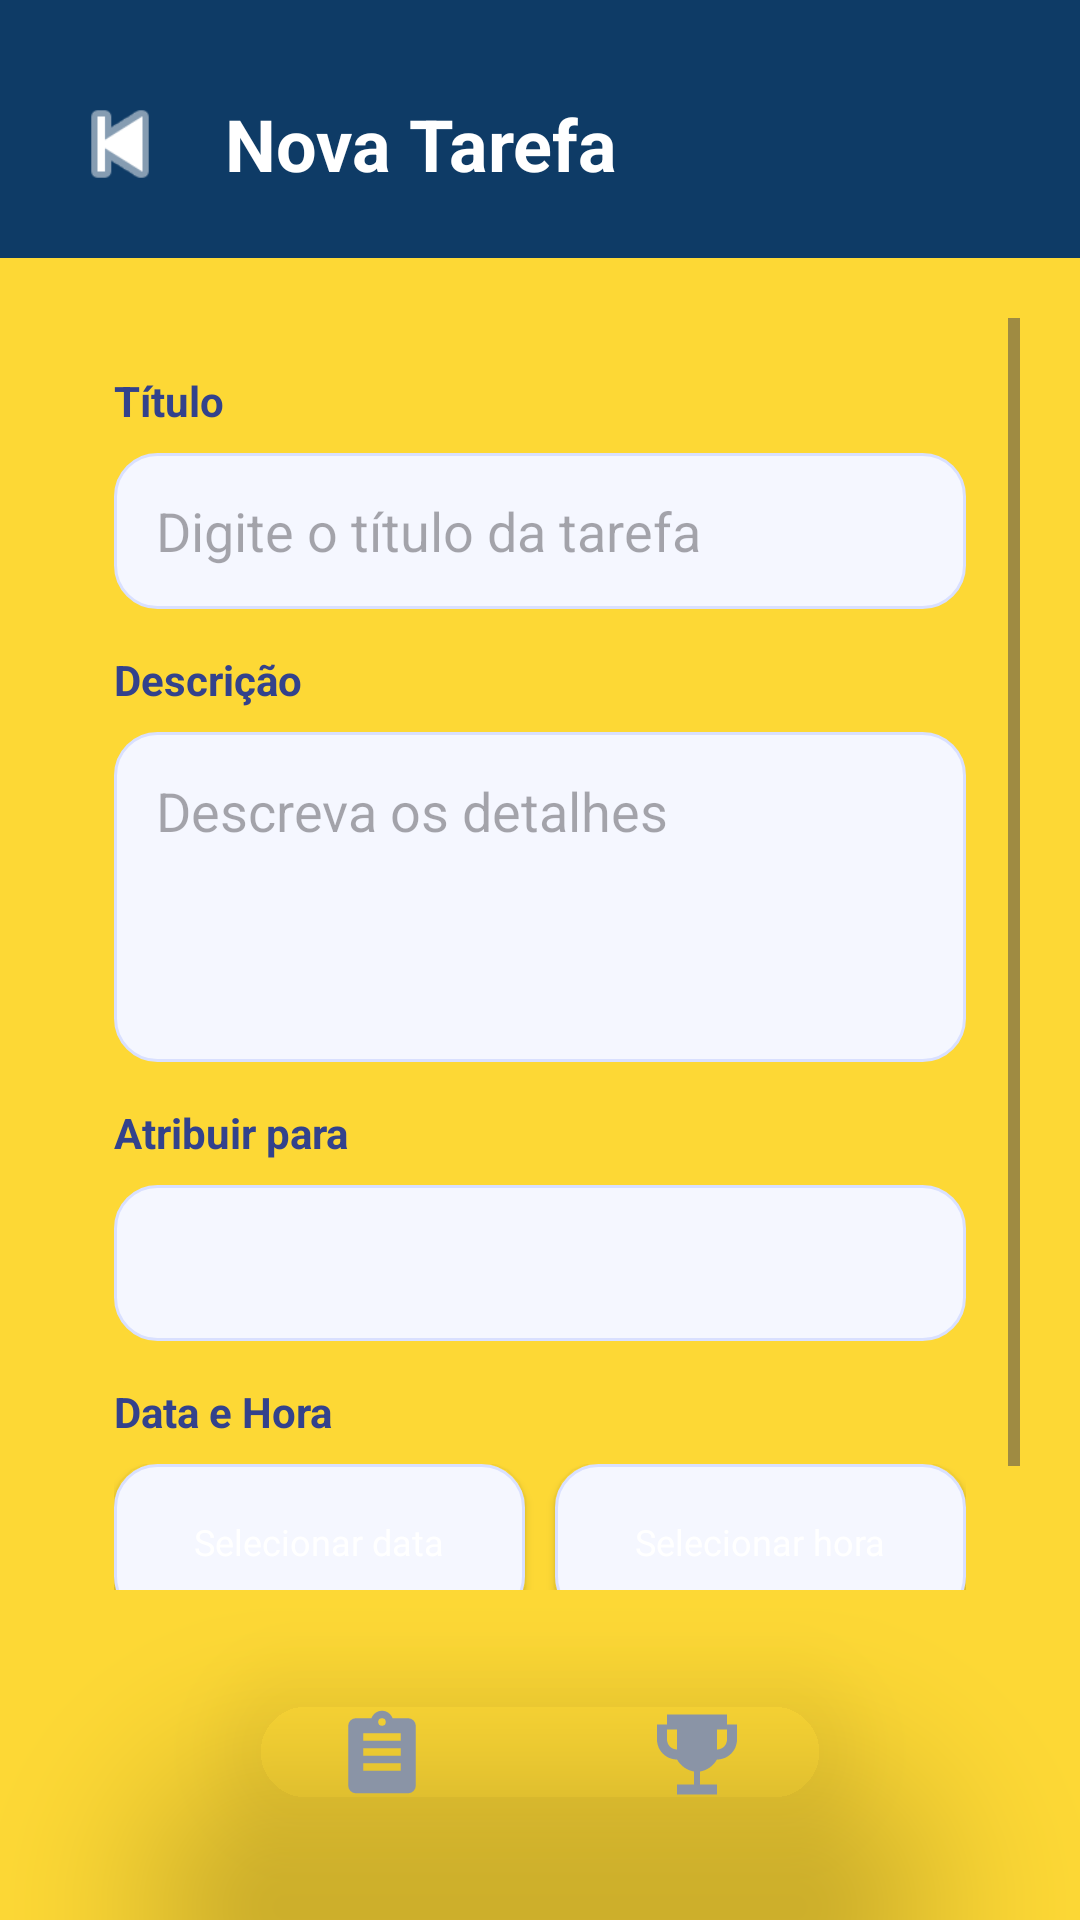

Where to tap for icons on this 1080 x 1920 app screen, as (x,y):
previous: (120,144)
